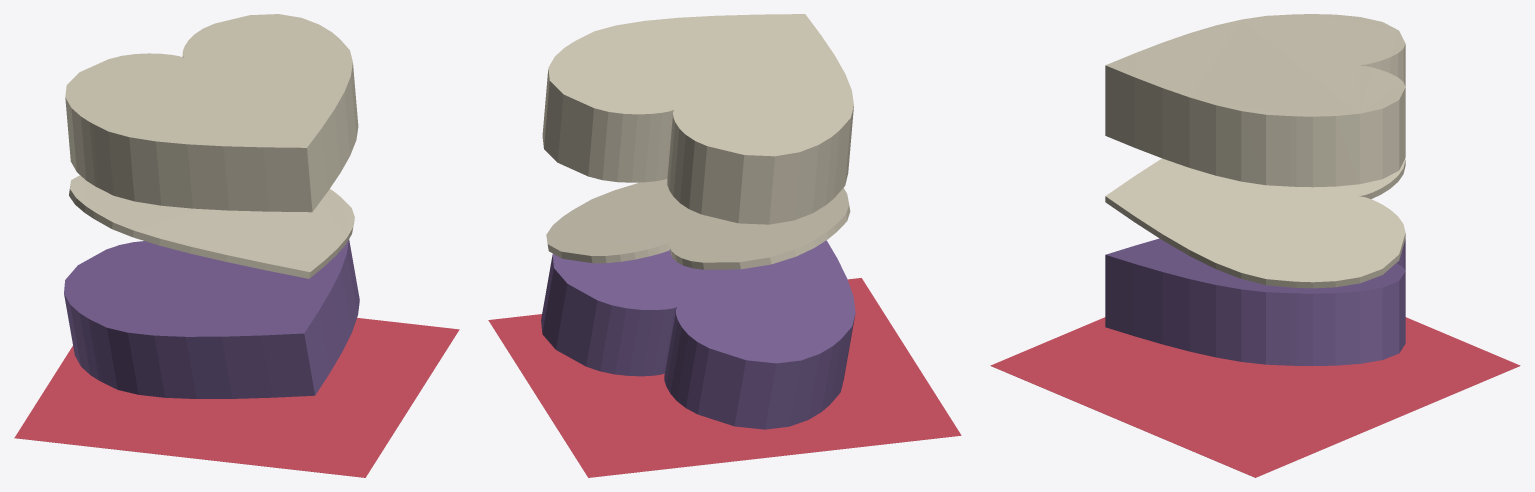
File: UVV.glb
The picture shows the model from 3 angles, left to right: view 1: azimuth 30°, elevation 25°; view 2: azimuth 150°, elevation 25°; view 3: azimuth 270°, elevation 25°; orthographic projection. The views are drawn at different scales.
Visible parts, largest first — view 1: Mesh_Mesh_head_geo.001_lambert2SG.001; view 2: Mesh_Mesh_head_geo.001_lambert2SG.001; view 3: Mesh_Mesh_head_geo.001_lambert2SG.001.
Part boxes in pixels (x1=…): Mesh_Mesh_head_geo.001_lambert2SG.001: x1=14, y1=14, x2=459, y2=477; Mesh_Mesh_head_geo.001_lambert2SG.001: x1=488, y1=14, x2=961, y2=477; Mesh_Mesh_head_geo.001_lambert2SG.001: x1=990, y1=14, x2=1520, y2=477.
Size of the model in its own units: 0.0354 by 0.0229 by 0.0354.
